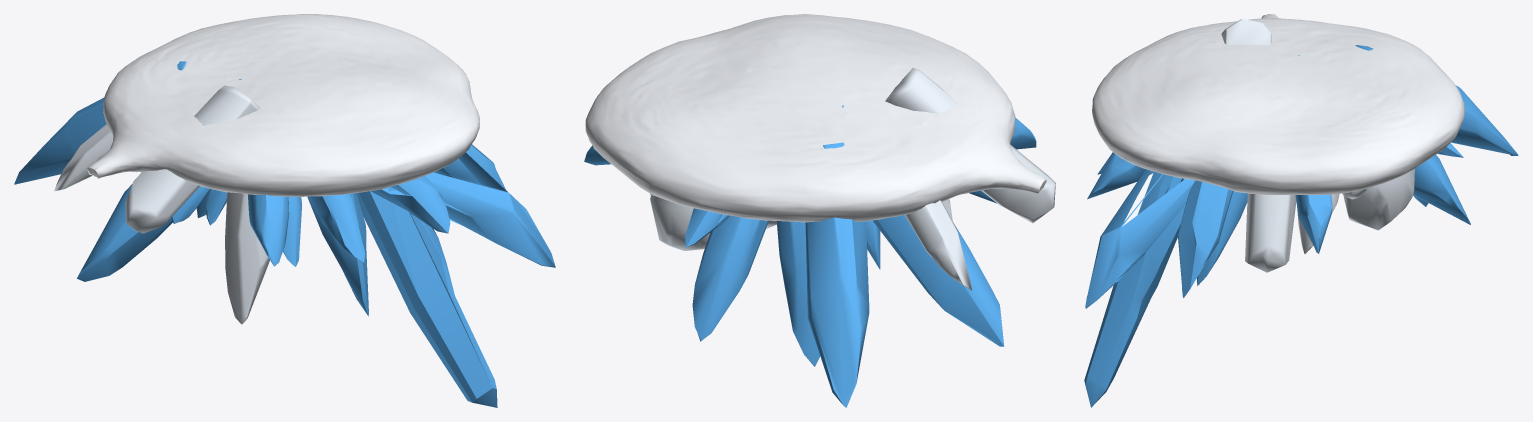
Rendered from SM_IceCluster_v3_tripo_cm.fbx.
3 views of the same model, side by side, from view 1: azimuth 30°, elevation 25°; view 2: azimuth 150°, elevation 25°; view 3: azimuth 270°, elevation 25° (orthographic). The views are drawn at different scales.
Visible parts, largest first — view 1: SM_IceCluster_Base, SM_IceCluster_Core, SM_IceCluster_Boulders, SM_IceCluster_Left, SM_IceCluster_Back; view 2: SM_IceCluster_Base, SM_IceCluster_Back, SM_IceCluster_Core, SM_IceCluster_Boulders, SM_IceCluster_Left; view 3: SM_IceCluster_Base, SM_IceCluster_Core, SM_IceCluster_Boulders, SM_IceCluster_Back, SM_IceCluster_Right.
Boxes of the visible parts, x1=… form: SM_IceCluster_Base: x1=87, y1=14, x2=479, y2=196; SM_IceCluster_Core: x1=77, y1=79, x2=555, y2=407; SM_IceCluster_Boulders: x1=54, y1=85, x2=269, y2=324; SM_IceCluster_Left: x1=171, y1=186, x2=365, y2=266; SM_IceCluster_Back: x1=14, y1=61, x2=186, y2=184; SM_IceCluster_Base: x1=585, y1=14, x2=1046, y2=222; SM_IceCluster_Back: x1=685, y1=142, x2=869, y2=407; SM_IceCluster_Core: x1=776, y1=105, x2=1004, y2=366; SM_IceCluster_Boulders: x1=650, y1=68, x2=1055, y2=290; SM_IceCluster_Left: x1=969, y1=117, x2=1036, y2=203; SM_IceCluster_Base: x1=1092, y1=14, x2=1464, y2=194; SM_IceCluster_Core: x1=1084, y1=55, x2=1428, y2=407; SM_IceCluster_Boulders: x1=1221, y1=19, x2=1414, y2=272; SM_IceCluster_Back: x1=1355, y1=45, x2=1518, y2=224; SM_IceCluster_Right: x1=1295, y1=194, x2=1332, y2=253.
Size of the model in its own units: 73149 by 73149 by 55971.
